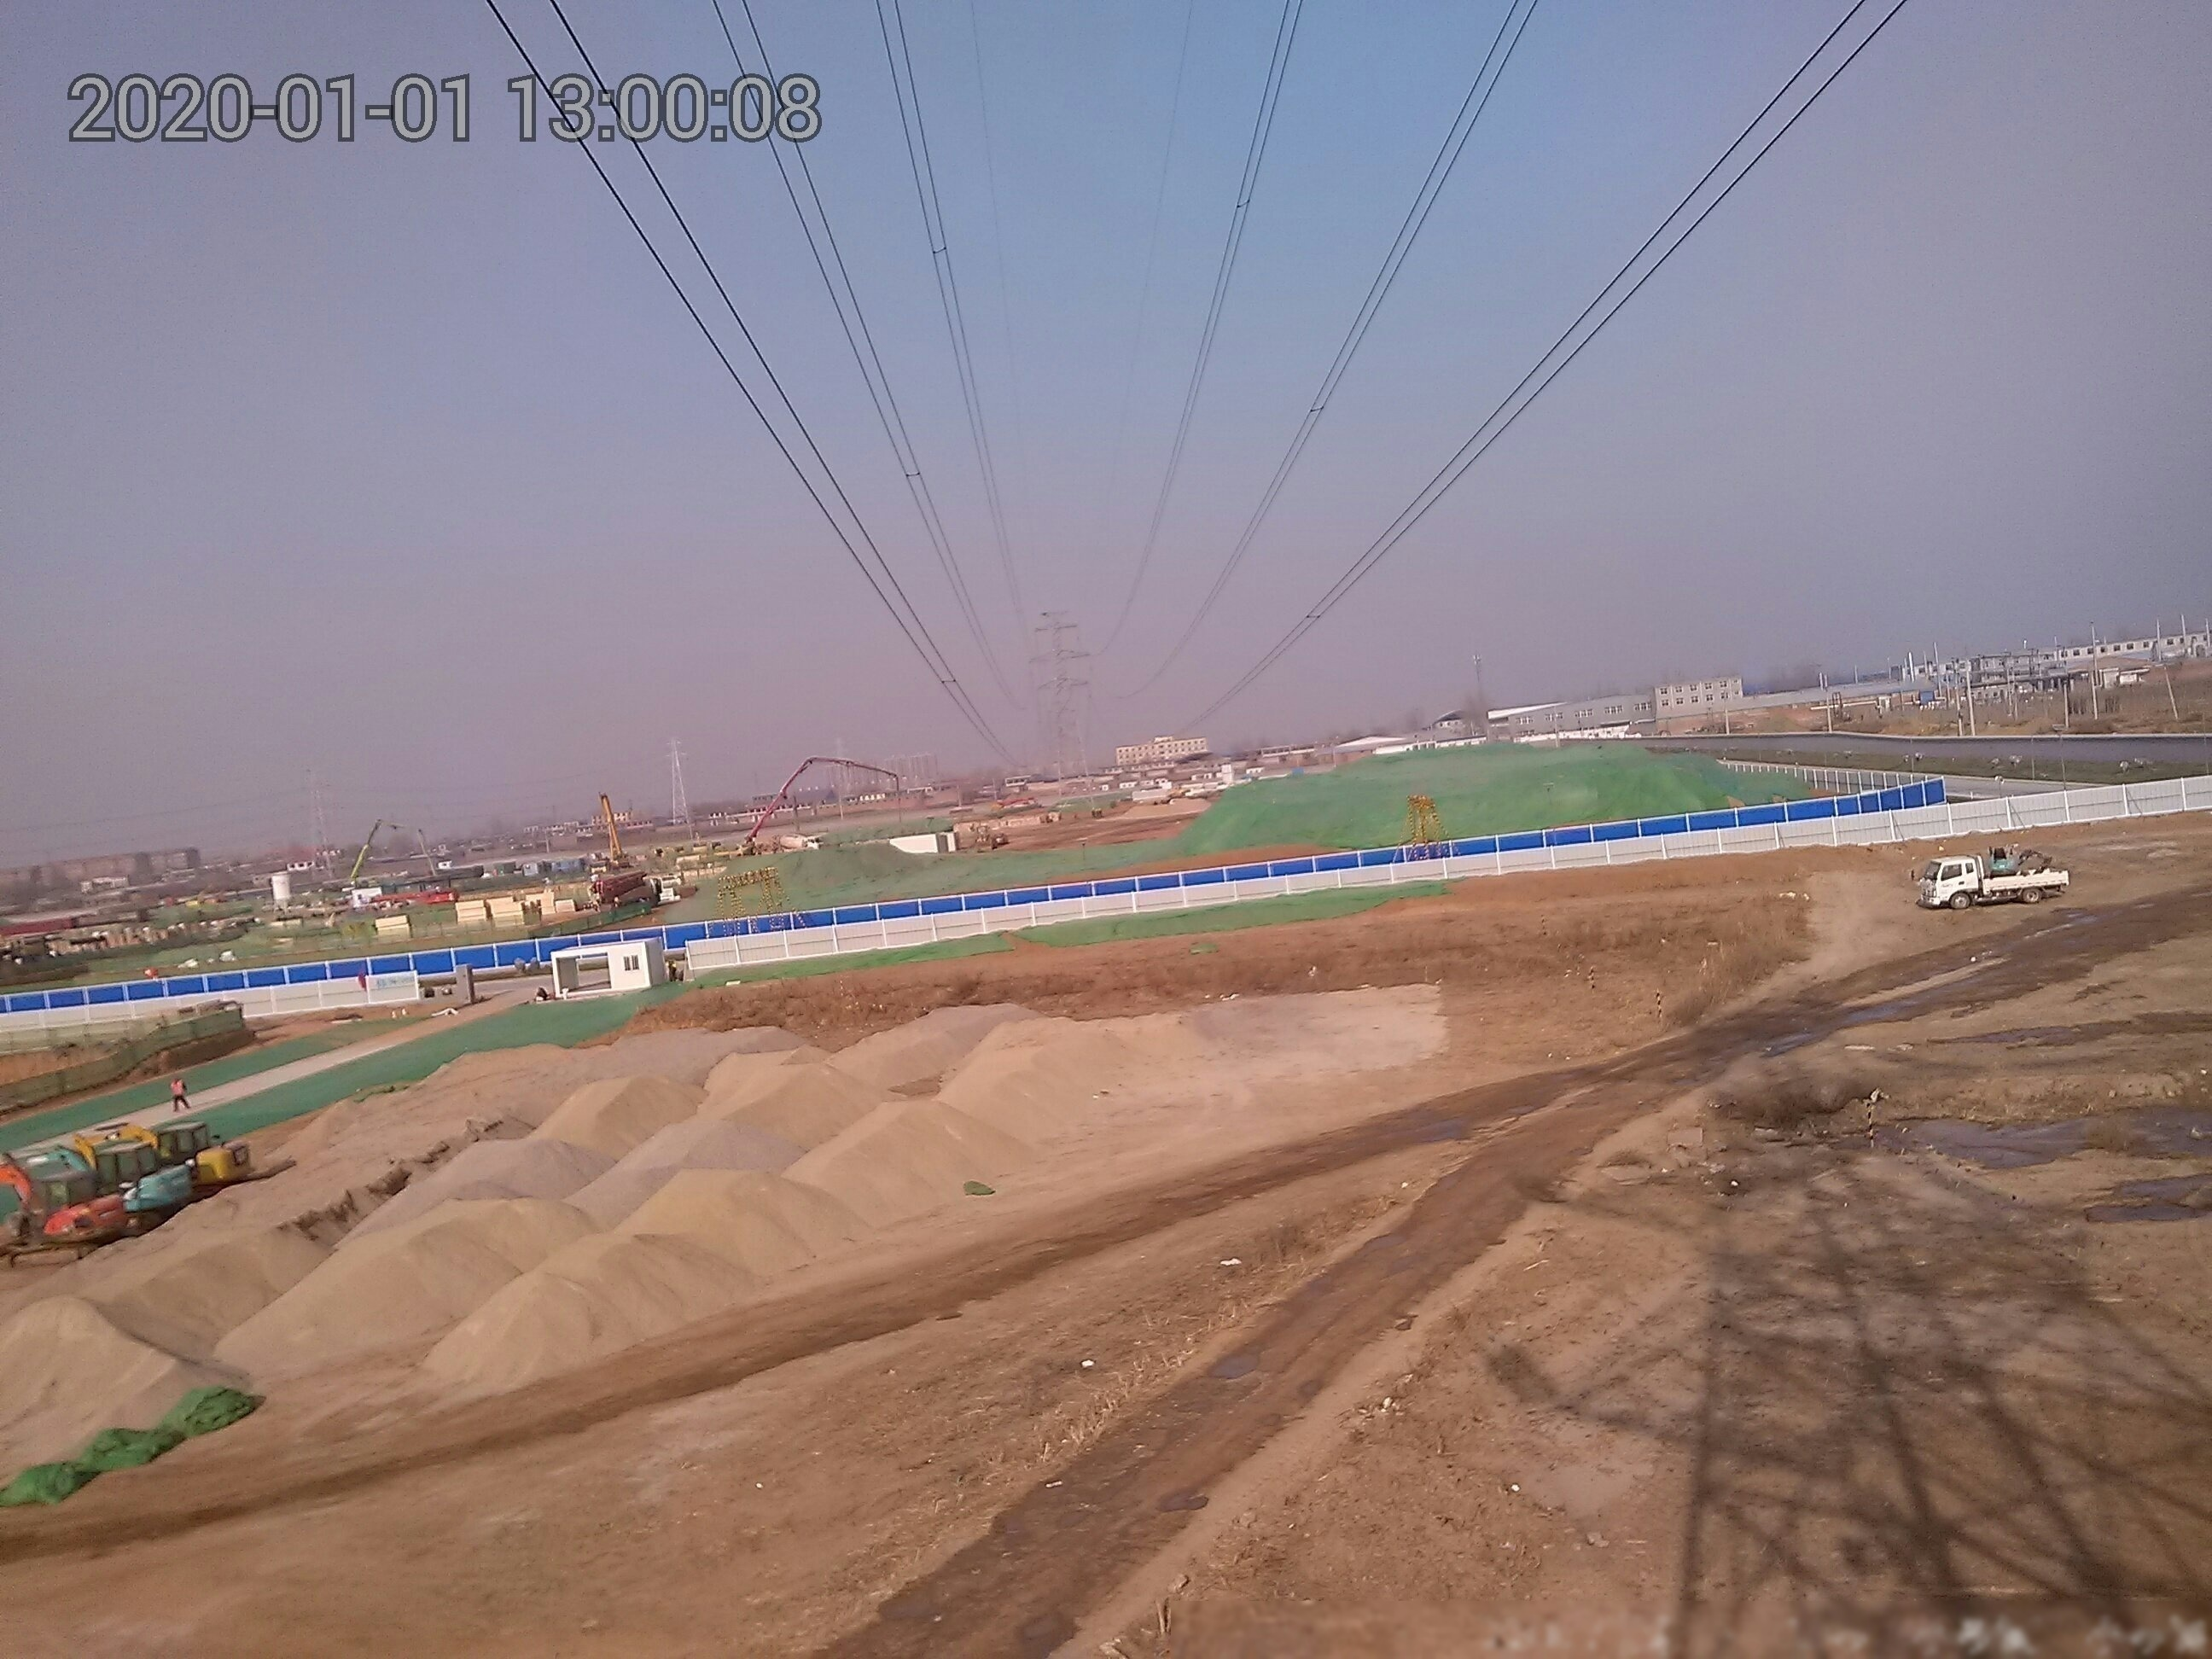tadiao: (716, 748, 909, 850)
